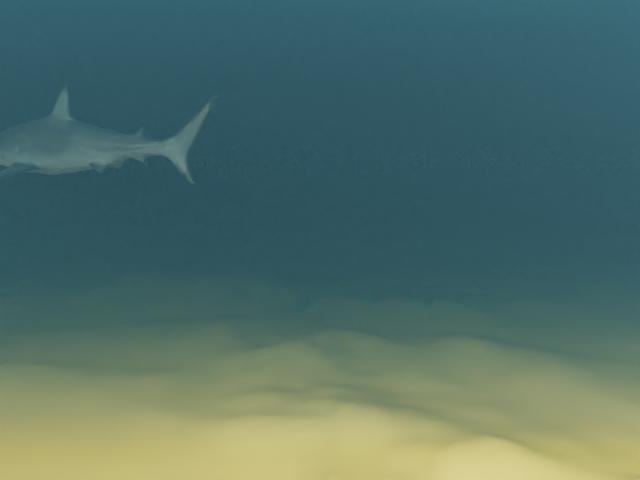Carribean Shark.001: (0, 83, 218, 185)
